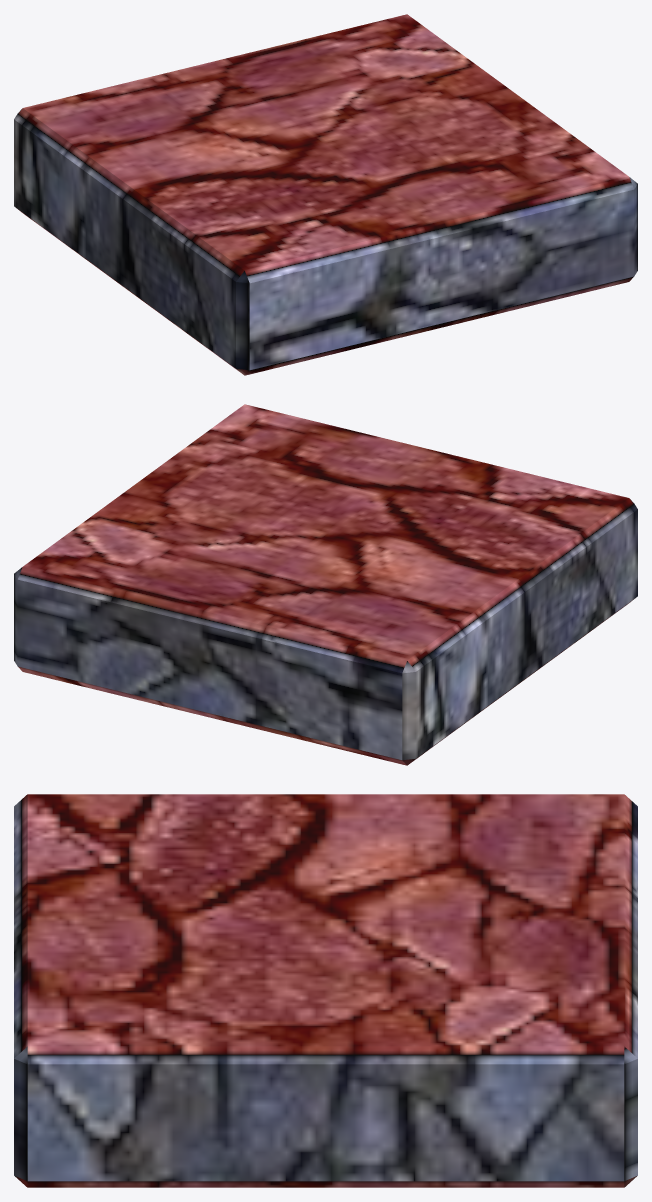
Rendered from Block1.fbx.
3 views of the same model, one above another, from view 1: azimuth 30°, elevation 25°; view 2: azimuth 150°, elevation 25°; view 3: azimuth 270°, elevation 25° (orthographic). The views are drawn at different scales.
Parts seen in each view (by area): view 1: Cube; view 2: Cube; view 3: Cube.
Boxes of the visible parts, box(x1,y1,x2,y2) form: Cube: box(14, 14, 637, 375); Cube: box(14, 404, 637, 765); Cube: box(14, 794, 637, 1187).
Bounding box in the file's own units: 8 × 8 × 2.
1 material, 1 textured.
